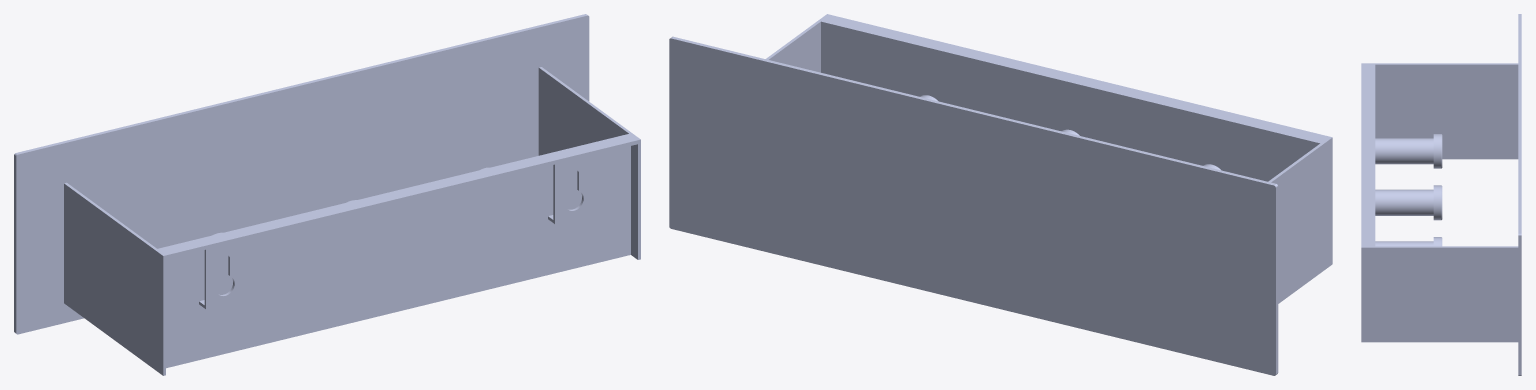
The model's file is skyline-hook.42508c0bad.glb.
The picture shows the model from 3 angles, left to right: view 1: azimuth 30°, elevation 25°; view 2: azimuth 150°, elevation 25°; view 3: azimuth 270°, elevation 25°; orthographic projection. The views are drawn at different scales.
Visible parts, largest first — view 1: NAUO1; view 2: NAUO1; view 3: NAUO1.
Boxes of the visible parts, <box> form: NAUO1: <box>14,14,640,375</box>; NAUO1: <box>669,14,1332,375</box>; NAUO1: <box>1361,14,1521,375</box>.
Size of the model in its own units: 0.3 by 0.09 by 0.092.
